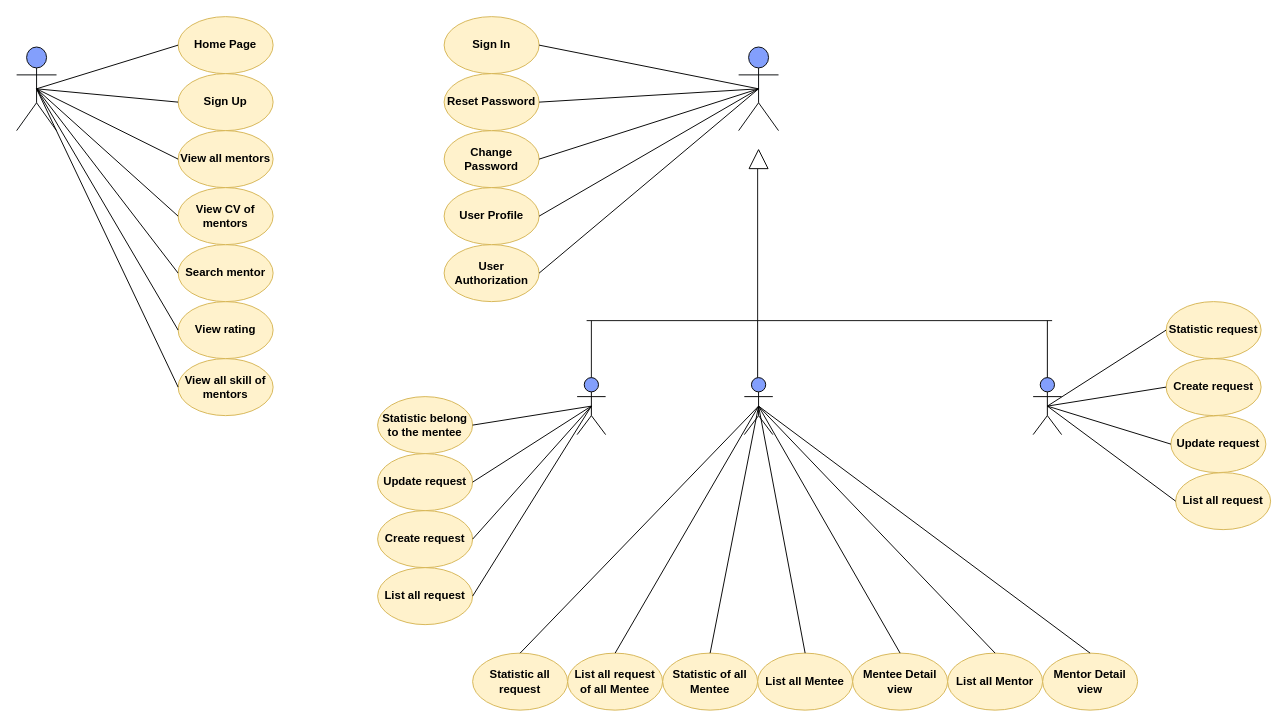
Some shapes in this 1287 by 727 pixel diagram are drawn without their labels. Each missing label, with the box of its shape:
Administrator: (743, 377, 773, 435)
Guest: (16, 46, 57, 131)
Mentee: (1032, 377, 1062, 435)
Mentor: (576, 377, 606, 435)
User: (738, 46, 779, 131)
